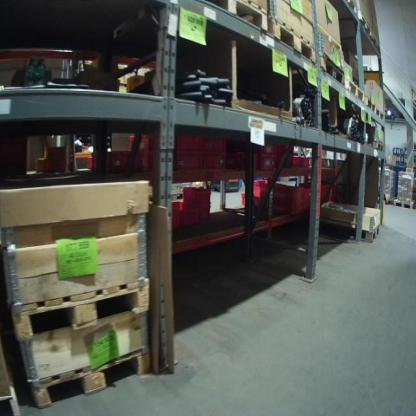pallet: (9, 279, 151, 343), (31, 345, 150, 409), (270, 15, 317, 68), (321, 223, 381, 242), (320, 54, 347, 93), (223, 13, 268, 34), (344, 76, 366, 105), (360, 12, 372, 38), (364, 94, 378, 115), (376, 107, 385, 123)
small_load_carrier: (142, 151, 201, 177), (196, 152, 228, 181), (157, 132, 201, 153), (93, 152, 135, 173), (232, 155, 279, 173), (171, 200, 198, 231), (268, 179, 304, 199), (182, 184, 213, 203), (236, 143, 278, 157), (275, 144, 294, 173), (267, 199, 304, 213), (126, 137, 157, 153), (197, 137, 228, 153), (242, 194, 266, 212), (197, 203, 213, 224), (248, 181, 272, 195), (293, 156, 313, 168)
